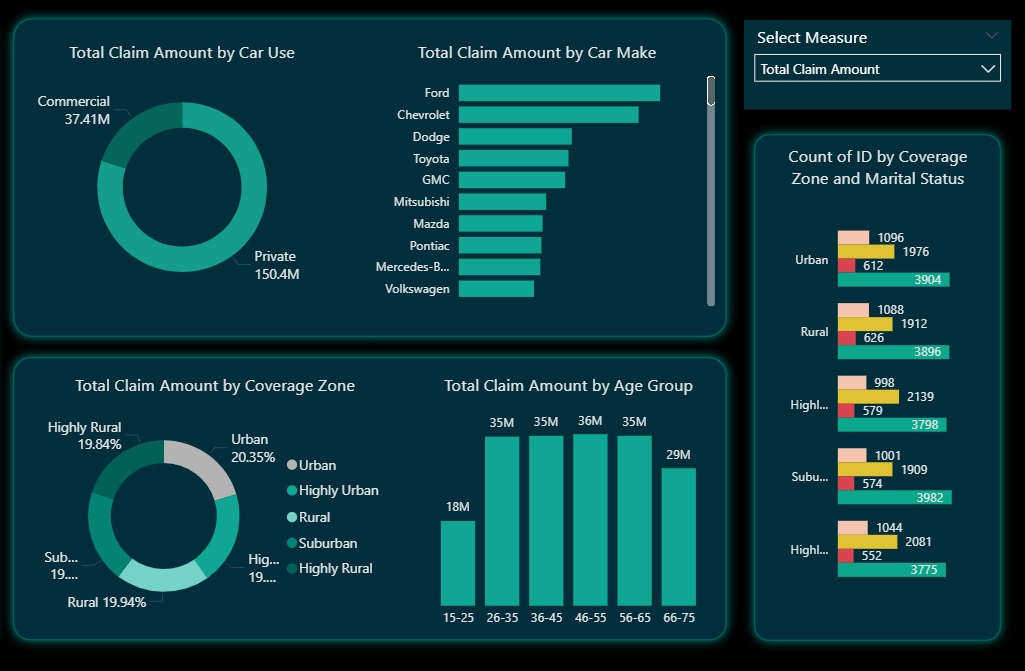

The page's visual inventory and layout, read from the dashboard file:
{"tool":"powerbi","page":{"name":"Dashboard 1","canvas":[1280,720],"ordinal":0},"visuals":[{"type":"textbox","box":[336.1,6.2,615.4,66.5],"z":0},{"type":"shape","box":[11.5,72.7,274.9,631.3],"z":1000},{"type":"cardVisual","fields":{"Data":["Car_Insurance_Data.Total Policies","Car_Insurance_Data.Total Claim Amount","Avg(Car_Insurance_Data.Claim Freq)","Car_Insurance_Data.Average Claim Amount"]},"box":[31.9,91.3,233.2,385.7],"z":2000},{"type":"cardVisual","fields":{"Data":["Car_Insurance_Data.Male Count","Car_Insurance_Data.Female Count"]},"box":[29.3,565.7,238.5,110],"z":3000},{"type":"image","box":[50.5,492.1,86.9,88.7],"z":4000},{"type":"image","box":[159.6,492.1,86,88.7],"z":5000},{"type":"slicer","fields":{"Values":["Select Measure.Select Measure"]},"box":[1007.1,84.7,260.1,86.7],"z":6000},{"type":"shape","box":[286.4,72.7,713.8,329.9],"z":7000},{"type":"donutChart","fields":{"Y":["Car_Insurance_Data.Total Claim Amount"],"Category":["Car_Insurance_Data.Car Use"]},"box":[306.8,105.5,307.7,263.3],"z":8000},{"type":"clusteredBarChart","fields":{"Y":["Car_Insurance_Data.Total Claim Amount"],"Category":["Car_Insurance_Data.Car Make"]},"box":[626.9,105.5,356.5,263.3],"z":9000},{"type":"shape","box":[286.4,402.6,713.8,295.3],"z":10000},{"type":"donutChart","fields":{"Y":["Car_Insurance_Data.Total Claim Amount"],"Category":["Car_Insurance_Data.Coverage Zone"]},"box":[319.2,429.2,346.7,255.4],"z":11000},{"type":"clusteredColumnChart","fields":{"Y":["Car_Insurance_Data.Total Claim Amount"],"Category":["Car_Insurance_Data.Age_Group"]},"box":[689.9,429.2,293.5,255.4],"z":12000},{"type":"shape","box":[1006.7,185.8,259.7,512.6],"z":12001},{"type":"clusteredBarChart","fields":{"Category":["Car_Insurance_Data.Coverage Zone"],"Series":["Car_Insurance_Data.Marital Status"],"Y":["CountNonNull(Car_Insurance_Data.ID)"]},"box":[1032.9,206.2,208.1,455.2],"z":12002}]}

Visuals, with their boxes on the page's 1280x720 design canvas (x1, y1, x2, y2). These are canvas units, not pixel positions in the 1025x671 screenshot, which may show the page scaled, cropped or inside an application window:
textbox: x1=336 y1=6 x2=952 y2=73
shape: x1=12 y1=73 x2=286 y2=704
cardVisual - Car_Insurance_Data.Total Policies x Car_Insurance_Data.Total Claim Amount: x1=32 y1=91 x2=265 y2=477
cardVisual - Car_Insurance_Data.Male Count x Car_Insurance_Data.Female Count: x1=29 y1=566 x2=268 y2=676
image: x1=50 y1=492 x2=137 y2=581
image: x1=160 y1=492 x2=246 y2=581
slicer - Select Measure.Select Measure: x1=1007 y1=85 x2=1267 y2=171
shape: x1=286 y1=73 x2=1000 y2=403
donutChart - Car_Insurance_Data.Total Claim Amount x Car_Insurance_Data.Car Use: x1=307 y1=106 x2=614 y2=369
clusteredBarChart - Car_Insurance_Data.Total Claim Amount x Car_Insurance_Data.Car Make: x1=627 y1=106 x2=983 y2=369
shape: x1=286 y1=403 x2=1000 y2=698
donutChart - Car_Insurance_Data.Total Claim Amount x Car_Insurance_Data.Coverage Zone: x1=319 y1=429 x2=666 y2=685
clusteredColumnChart - Car_Insurance_Data.Total Claim Amount x Car_Insurance_Data.Age_Group: x1=690 y1=429 x2=983 y2=685
shape: x1=1007 y1=186 x2=1266 y2=698
clusteredBarChart - Car_Insurance_Data.Coverage Zone x Car_Insurance_Data.Marital Status: x1=1033 y1=206 x2=1241 y2=661
